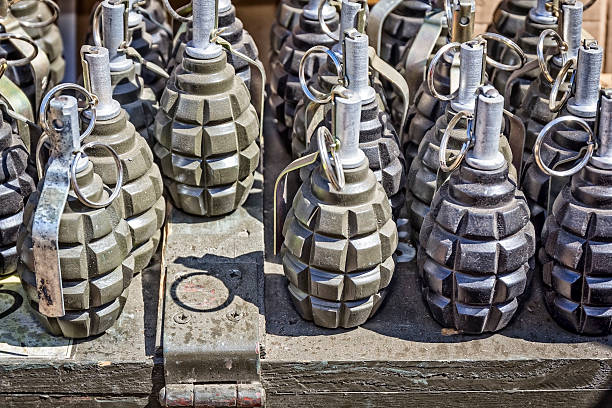e1: (414, 83, 542, 333), (14, 84, 134, 341), (271, 93, 396, 336), (156, 1, 262, 216)
